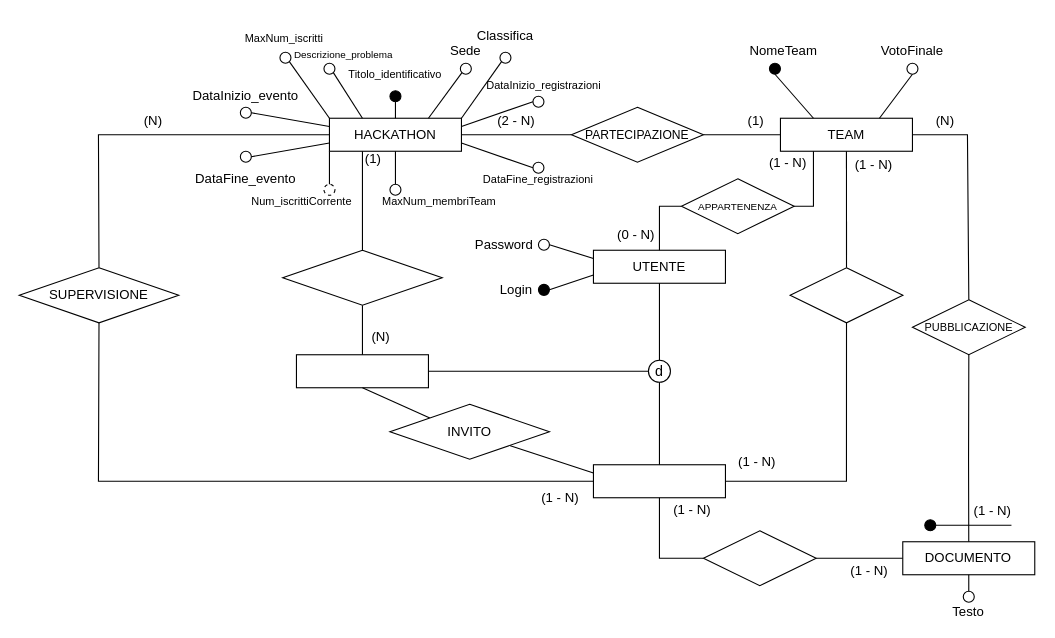
Image size: 1055x638. Some labels were removed from this diagram. Each missing label, with the centre of its shape:
GIUDICE: the point at 658,481
ORGANIZZATORE: the point at 361,371
ORGANIZZAZIONE: the point at 362,277
VALUTAZIONE: the point at 759,558
VOTO: the point at 846,295
